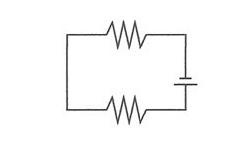resistor: (95, 13, 157, 53), (95, 90, 152, 130)
